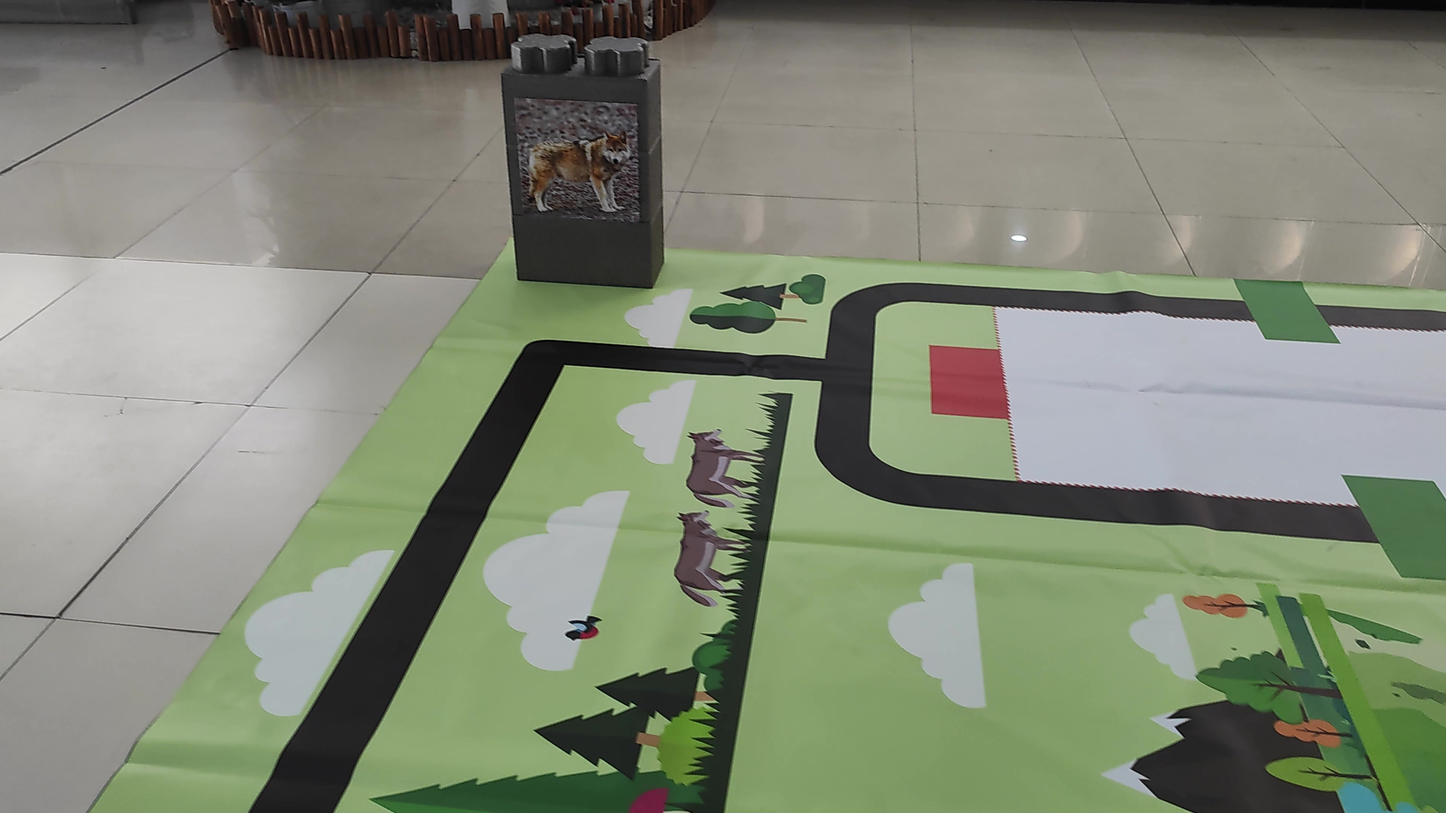wolf: (514, 96, 642, 212)
